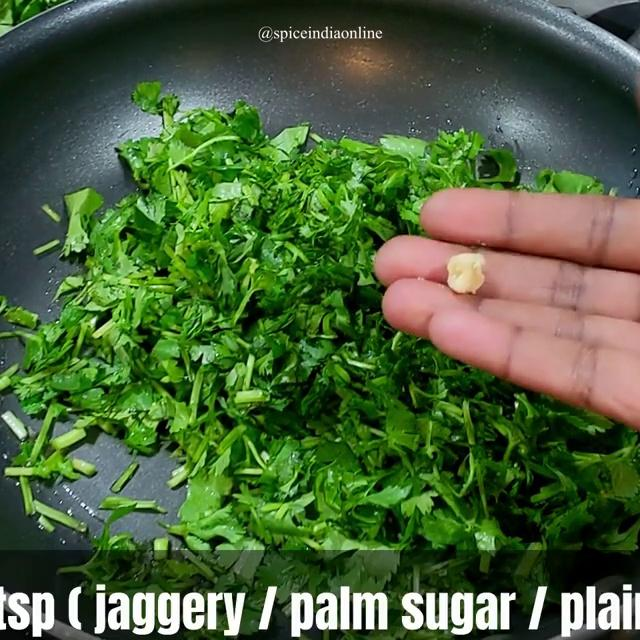cilantro: (107, 122, 392, 539)
